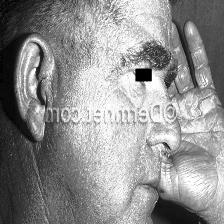Toxin: (64, 127, 116, 178), (179, 88, 214, 122)
